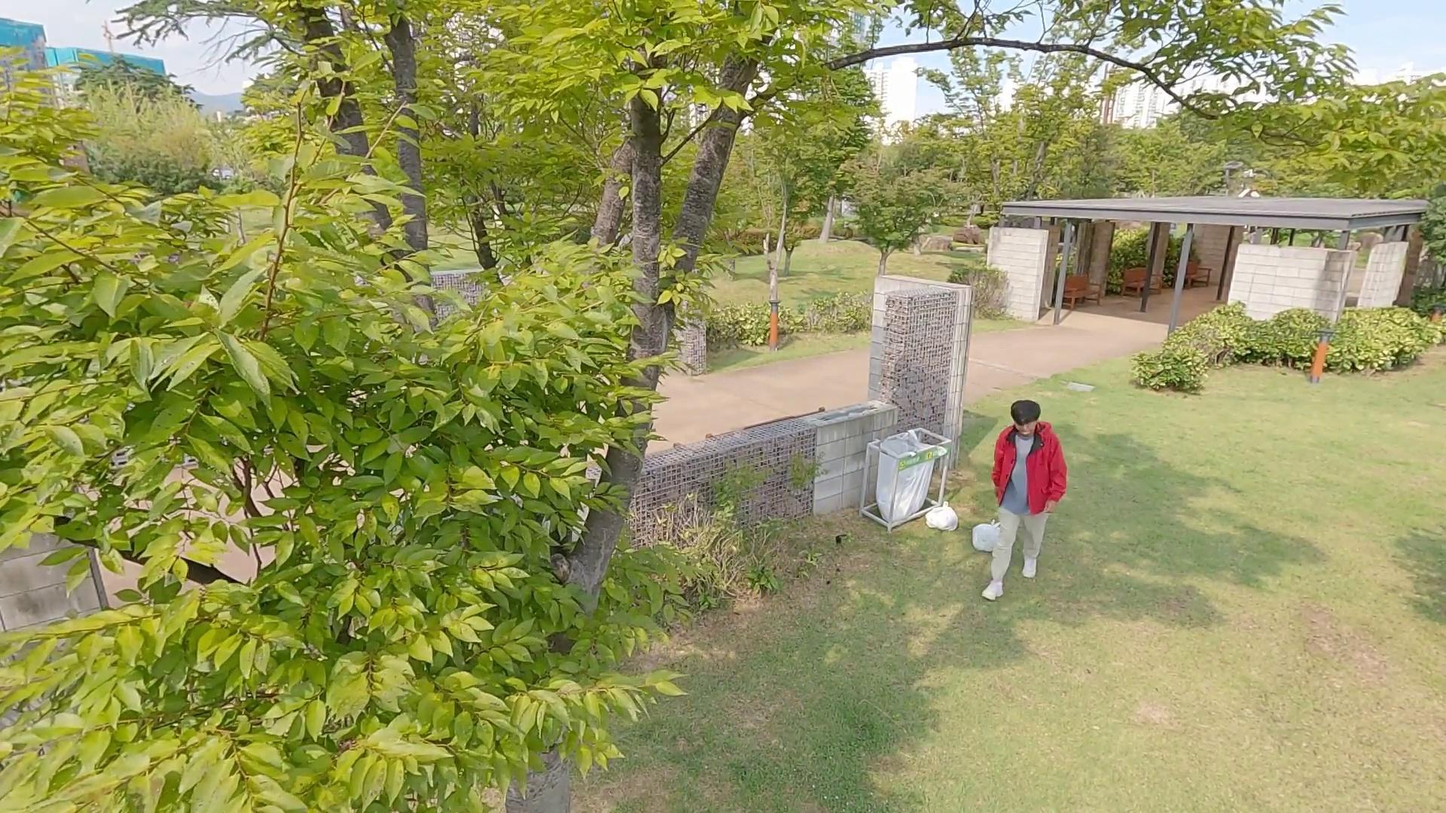person: (980, 398, 1065, 602)
trash: (925, 500, 959, 533), (973, 517, 1004, 553)
